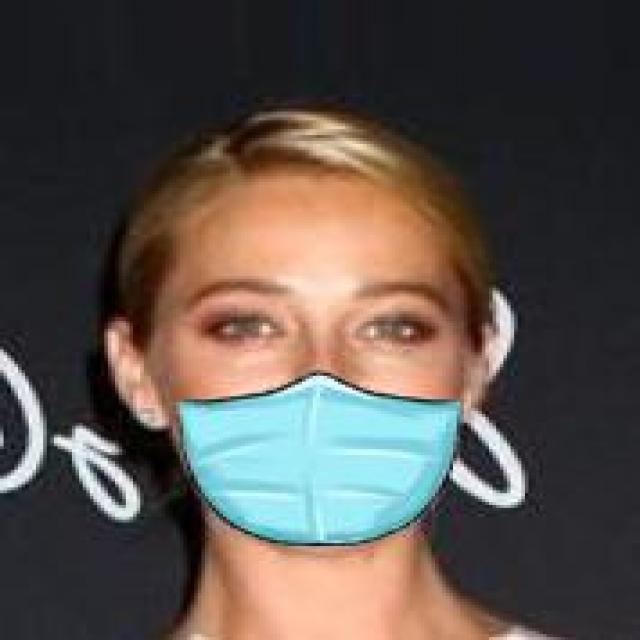mask: (79, 76, 554, 567)
